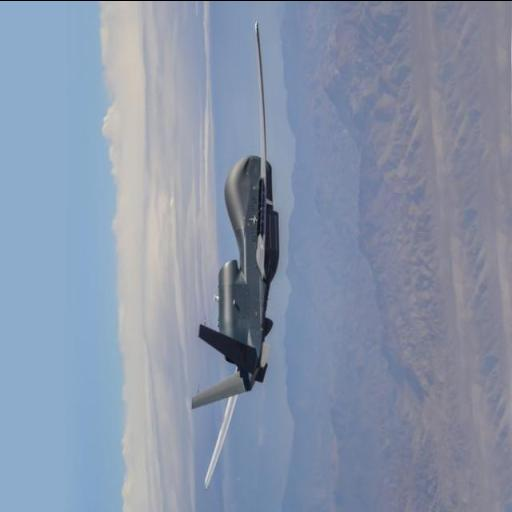uav: (186, 22, 306, 492)
